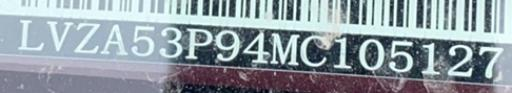letter: (98, 22, 130, 57), (445, 42, 475, 79), (72, 20, 102, 55), (183, 25, 213, 60), (270, 30, 300, 65), (357, 37, 387, 72), (477, 44, 505, 81), (16, 18, 46, 51), (212, 29, 242, 62), (298, 35, 328, 68), (242, 30, 270, 65), (416, 41, 442, 78), (46, 20, 74, 53), (330, 35, 356, 70), (388, 38, 414, 73), (130, 24, 156, 57), (158, 25, 184, 58)
